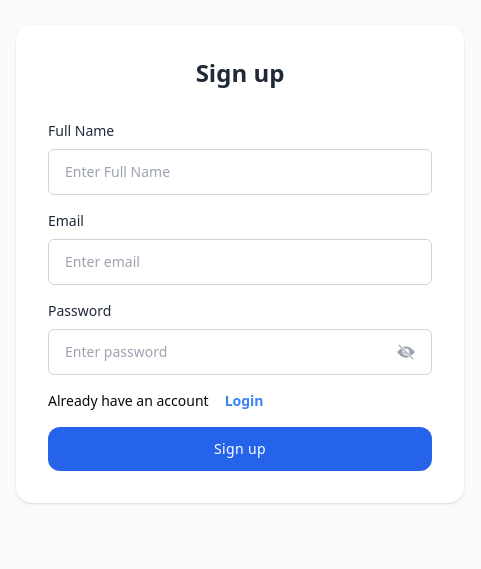
Test: Signup Page › should show validation errors for empty fields
The width and height of the screenshot is (481, 569).
Click the button "Sign up" at (240, 449), box [48,427,432,471]
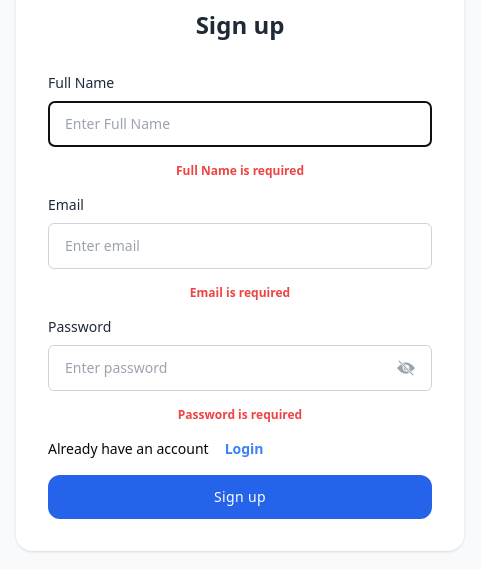
Now the text "Full Name is required" is shown, box [176,162,304,179]
Now the text "Email is required" is shown, box [190,284,290,301]
Now the text "Password is required" is shown, box [178,406,302,423]
